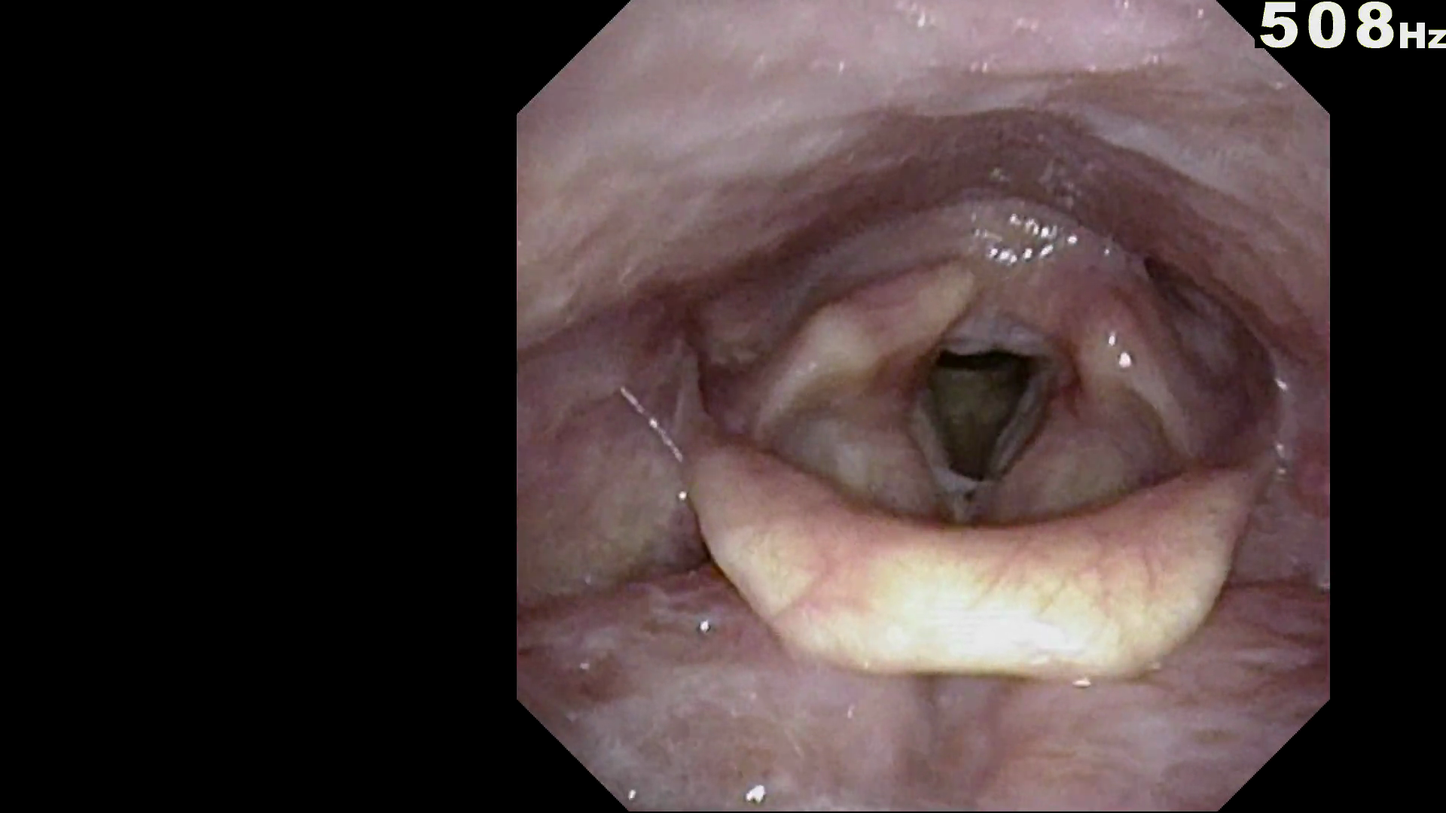epiglottis: (677, 393, 1278, 697)
trachea: (870, 313, 1083, 529)
